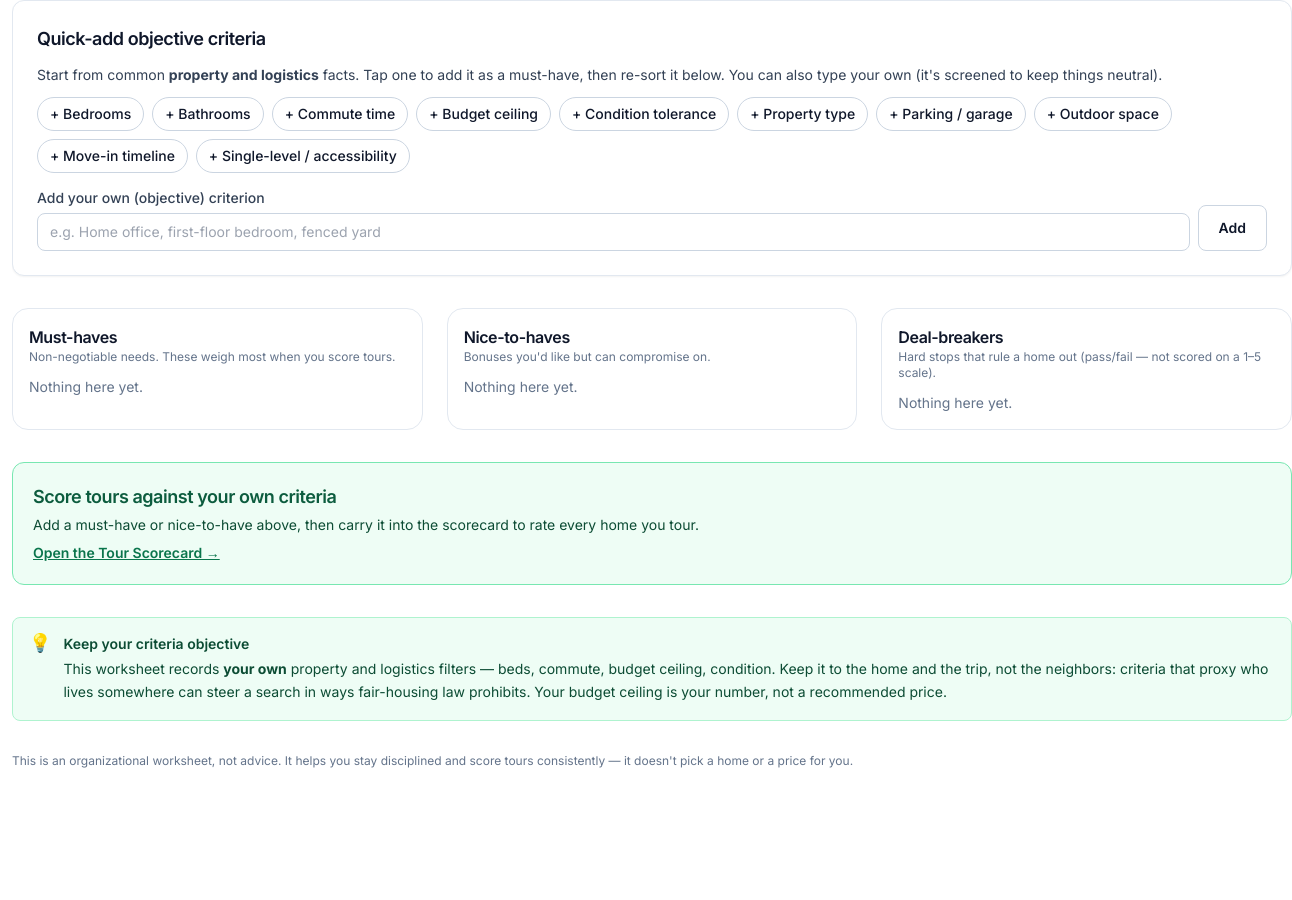
Scenario: CriteriaWorksheet › screens protected-class phrasing out of a custom criterion before saving
The image size is (1292, 900).
Type "Near a Catholic church" into the field named "Add your own criterion" at [613, 232], box [37, 213, 1190, 251]
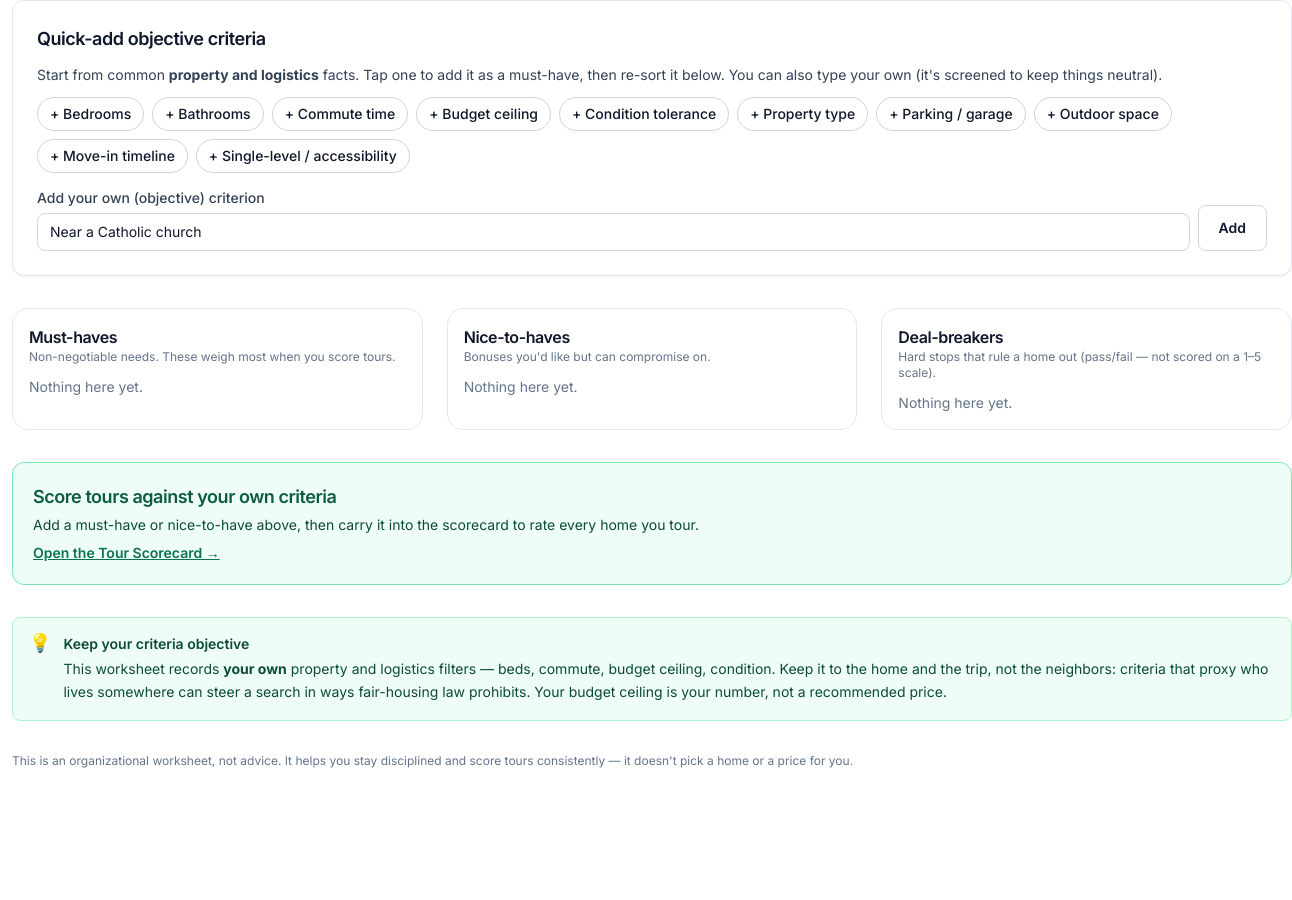
Click the button "Add" at [1232, 228], box [1198, 205, 1267, 251]
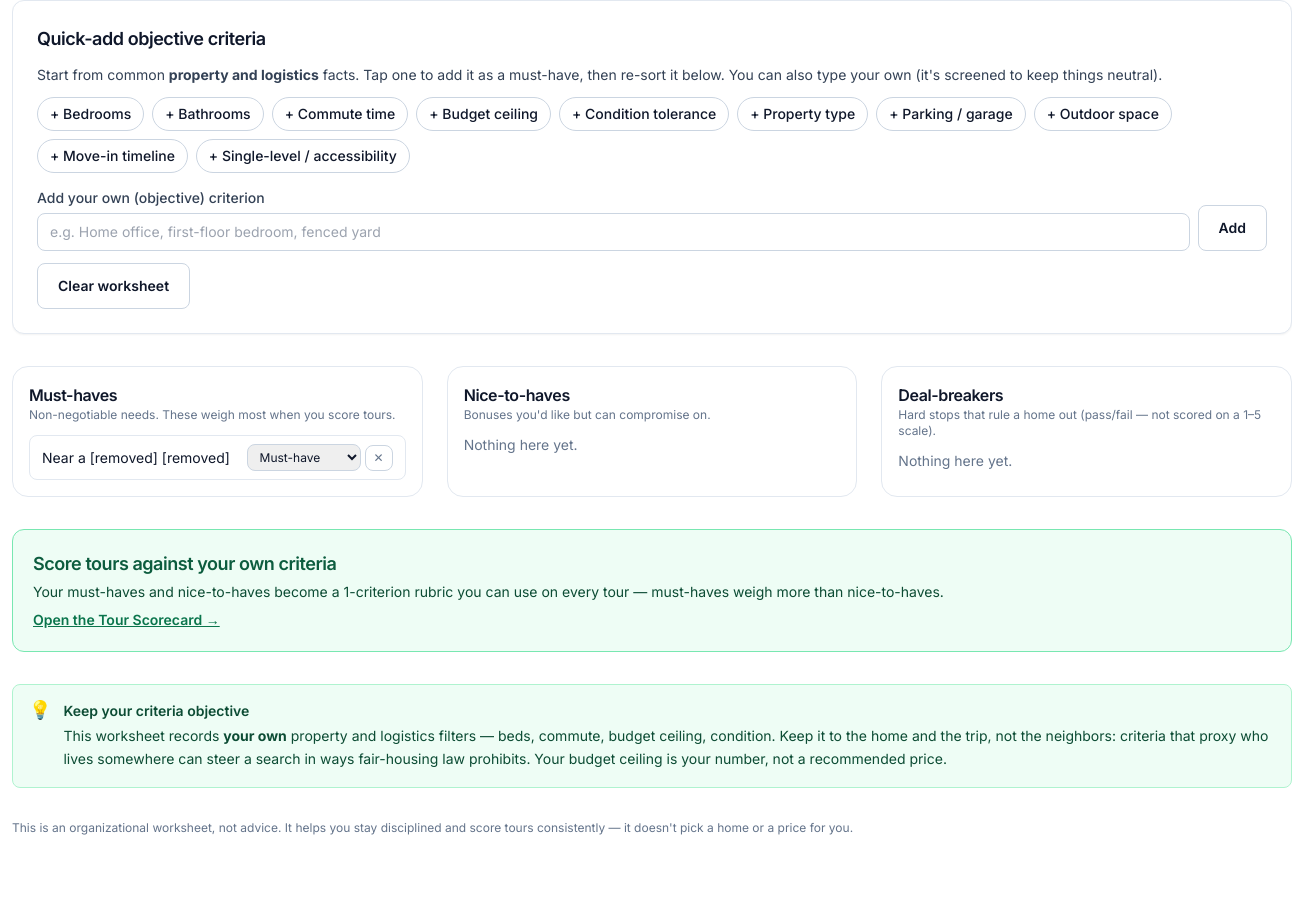
Expected: the text "catholic" is not shown
Now the text "Near a [removed] [removed]" is shown, box [42, 448, 230, 468]
